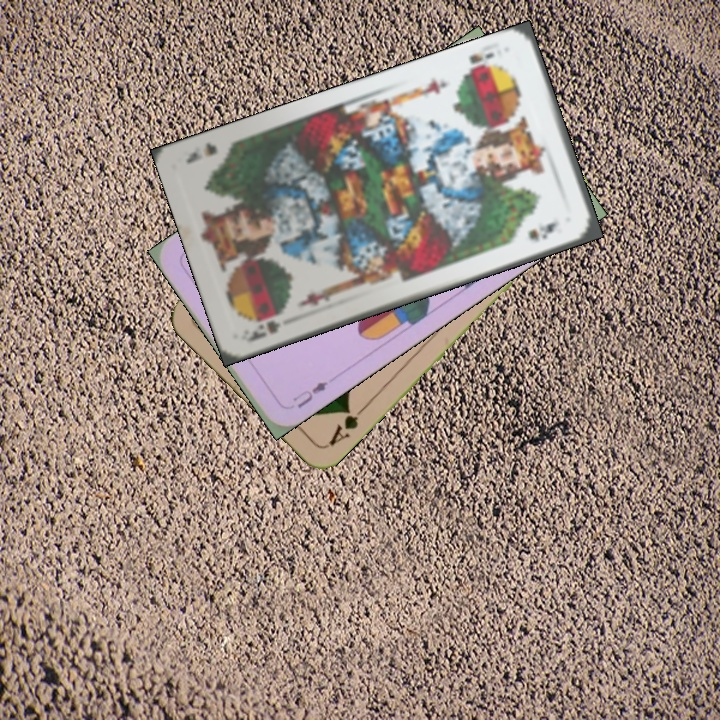EU: (289, 377, 331, 411)
GA: (324, 402, 369, 449)
SK: (242, 308, 287, 345), (459, 48, 500, 79)
